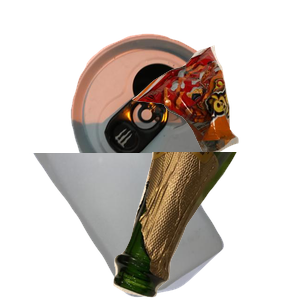glass: (111, 152, 300, 300)
metal: (68, 31, 288, 211)
plastic: (29, 153, 245, 300)
trash: (130, 43, 300, 190)
